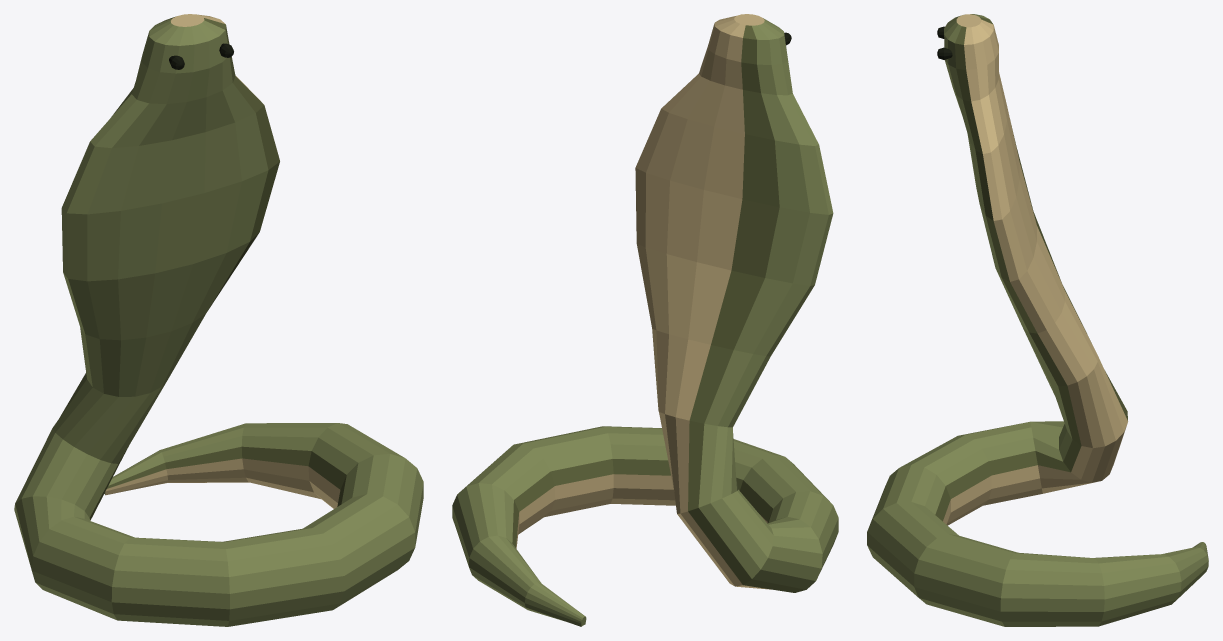
3 renders of one model, left to right at view 1: azimuth 30°, elevation 25°; view 2: azimuth 150°, elevation 25°; view 3: azimuth 270°, elevation 25°, orthographic. The views are drawn at different scales.
Parts seen in each view (by area): view 1: WholeGroundedLoopRaisedHoodHeadAndTail; view 2: WholeGroundedLoopRaisedHoodHeadAndTail; view 3: WholeGroundedLoopRaisedHoodHeadAndTail.
Part boxes in pixels (left/top/right/bottom): WholeGroundedLoopRaisedHoodHeadAndTail: left=14, top=14, right=423, bottom=626; WholeGroundedLoopRaisedHoodHeadAndTail: left=452, top=14, right=838, bottom=626; WholeGroundedLoopRaisedHoodHeadAndTail: left=867, top=14, right=1208, bottom=626.
Bounding box in the file's own units: 1.36 × 2.04 × 1.24.
